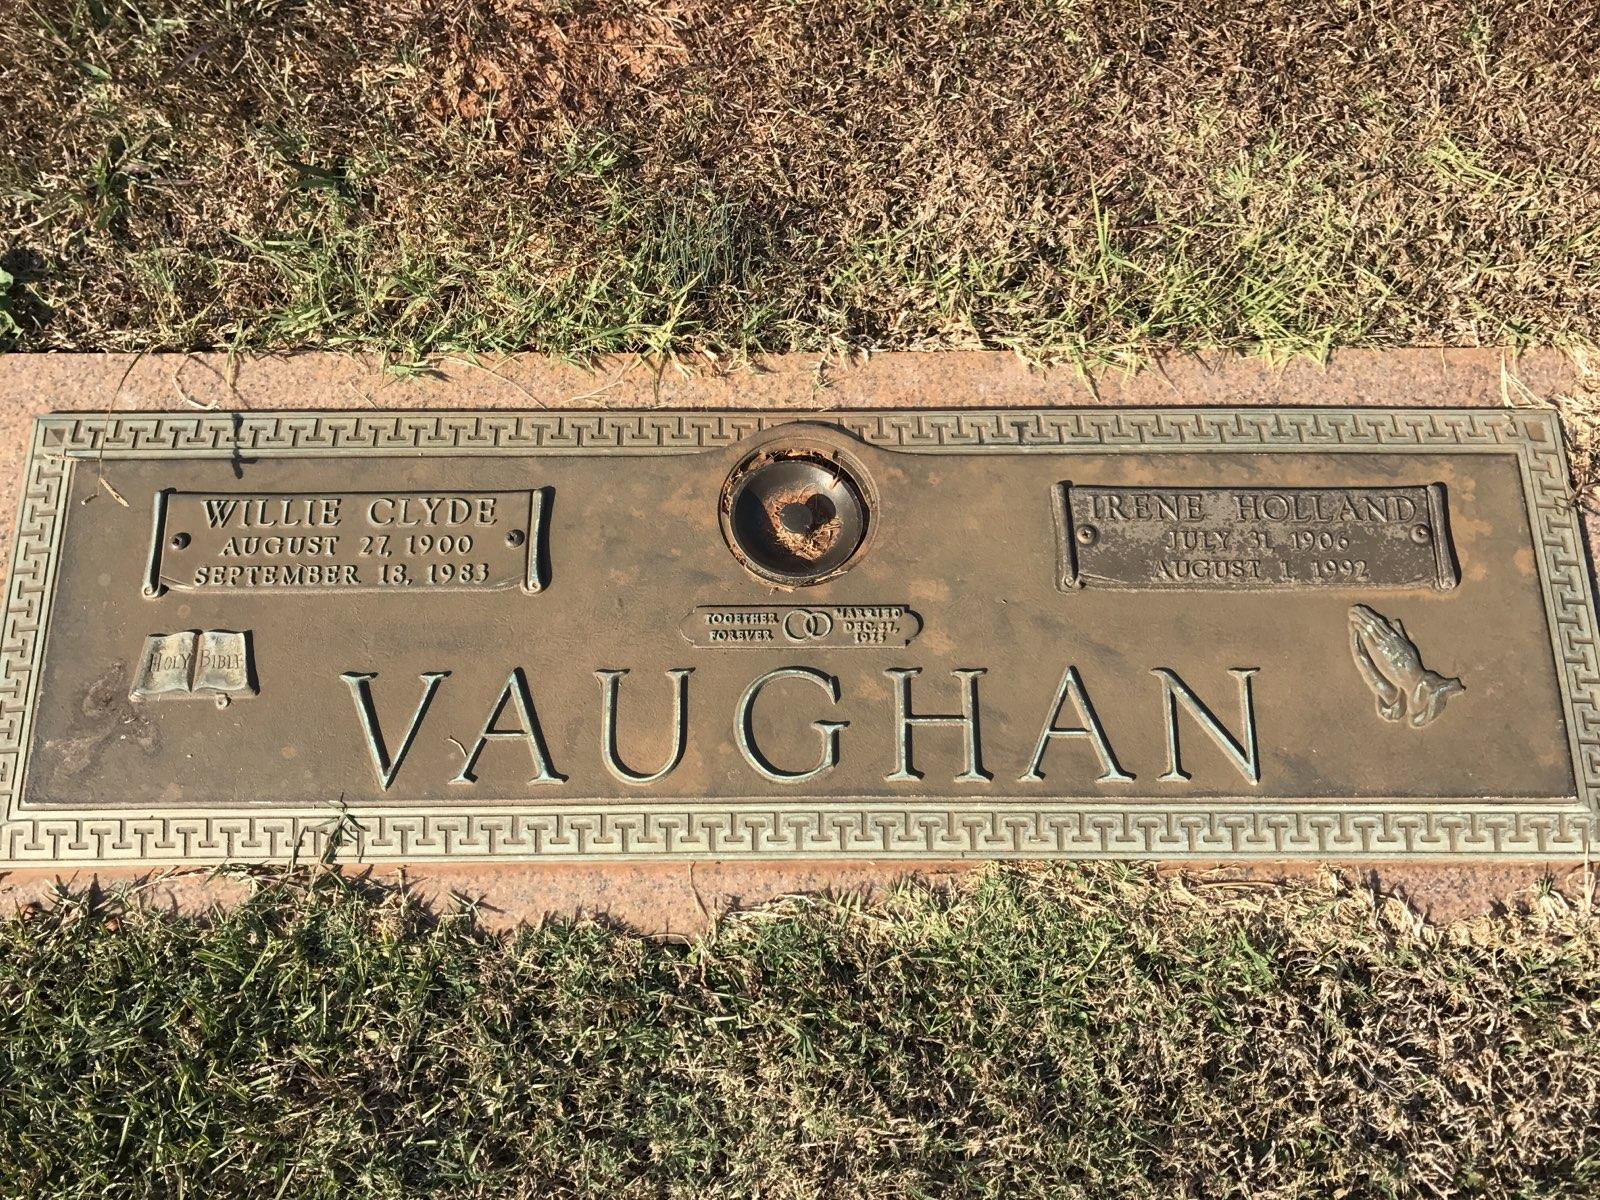flat: (3, 308, 1600, 1056)
